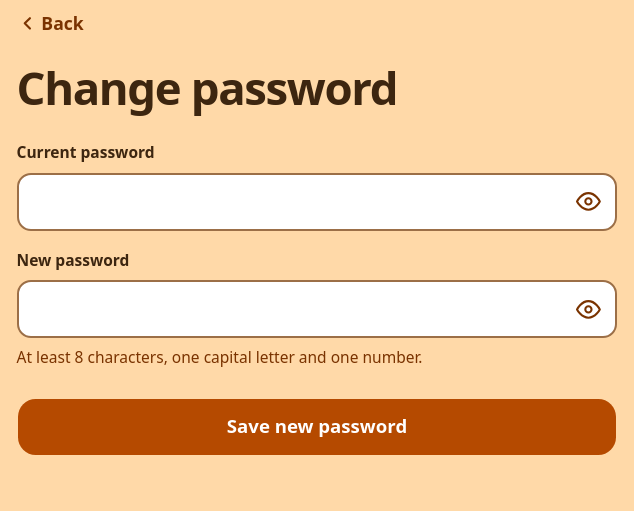
Test case: ChangePasswordScreen › shows the en text for the answer AUTH_PASSWORD_UNCHANGED inline
The image size is (634, 511).
Step 1. Type "OldPassw0rd" into the password field labelled "Current password" → [317, 202], box [16,173,618,231]
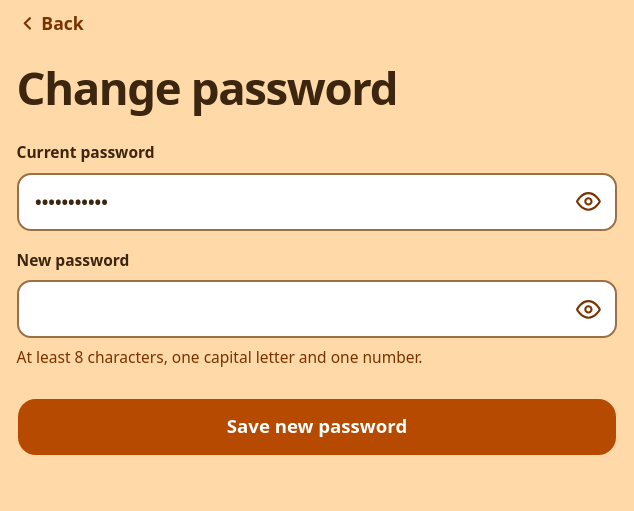
Step 2. Type "NewPassw0rd" into the password field labelled "New password" → [317, 309], box [16,280,618,338]
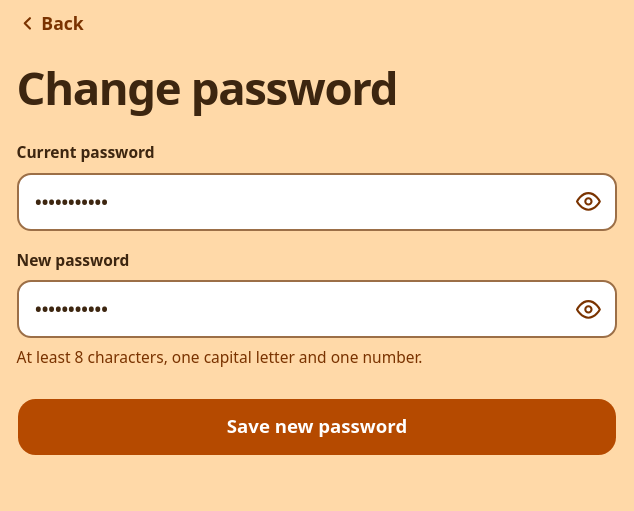
Step 3. Click the button "Save new password" → [317, 427], box [16,398,618,456]
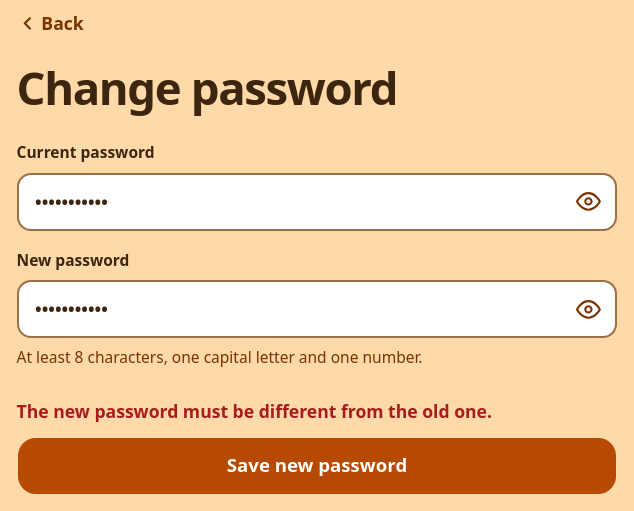
Expected: the message reads "The new password must be different from the old one.", [16,399,492,423]
